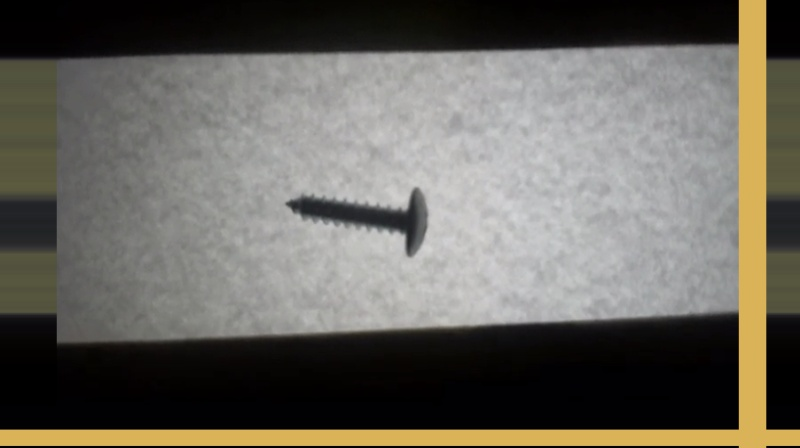S003: (279, 182, 431, 258)
